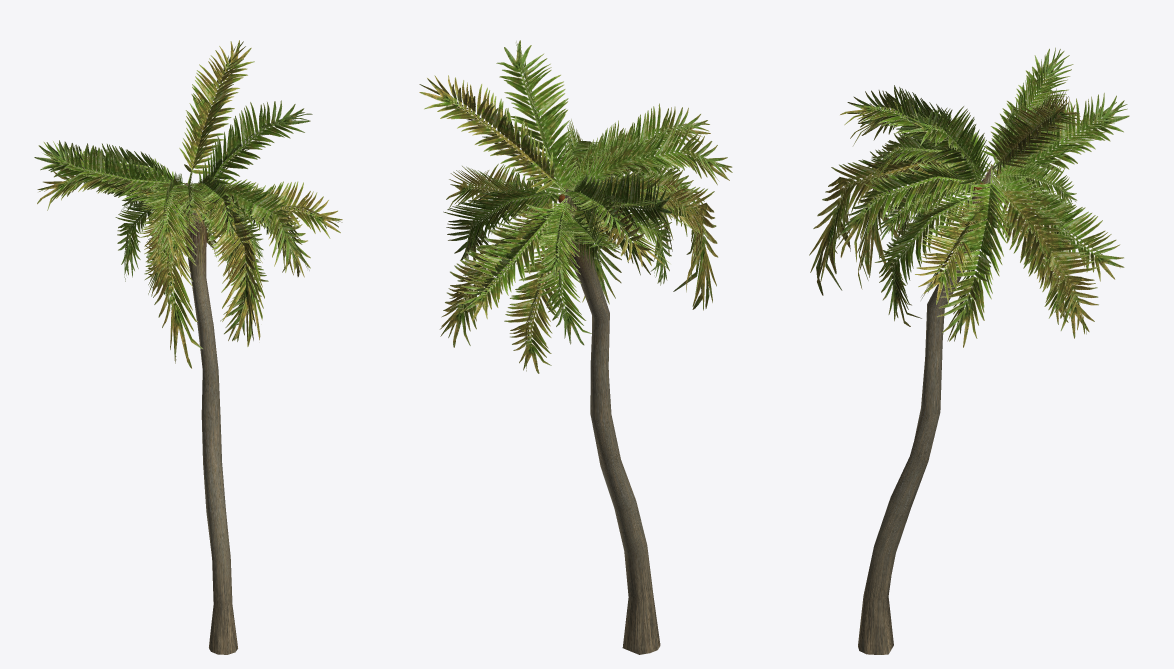
File: coconut_palm8.fbx
3 renders of one model, left to right at view 1: azimuth 30°, elevation 25°; view 2: azimuth 150°, elevation 25°; view 3: azimuth 270°, elevation 25°, orthographic. The views are drawn at different scales.
Parts seen in each view (by area): view 1: coconut_palm8_leaves, coconut_palm8_trunk; view 2: coconut_palm8_leaves, coconut_palm8_trunk; view 3: coconut_palm8_leaves, coconut_palm8_trunk.
Part boxes in pixels (left/top/right/bottom): coconut_palm8_leaves: left=34, top=40, right=342, bottom=368; coconut_palm8_trunk: left=184, top=183, right=237, bottom=654; coconut_palm8_leaves: left=419, top=40, right=732, bottom=373; coconut_palm8_trunk: left=564, top=189, right=660, bottom=654; coconut_palm8_leaves: left=809, top=47, right=1129, bottom=347; coconut_palm8_trunk: left=858, top=166, right=993, bottom=654.
Bounding box in the file's own units: 342 × 624 × 339.
